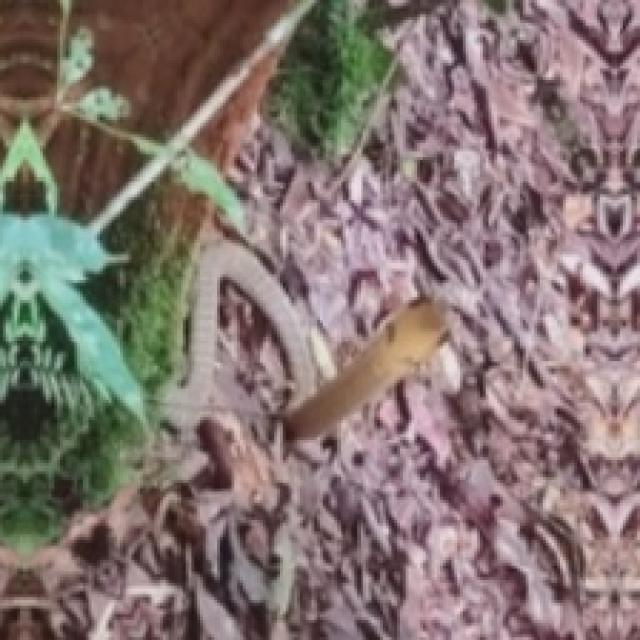king cobra: (169, 240, 446, 434)
